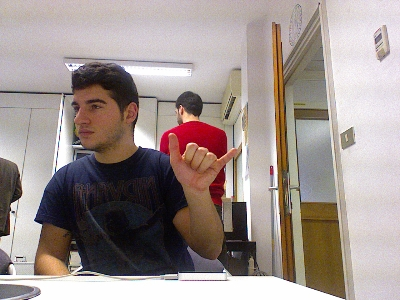六六六: (166, 130, 238, 191)
